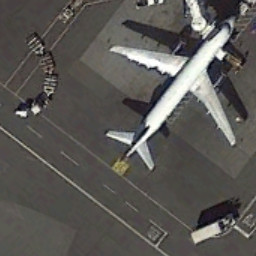Airplane: (99, 9, 244, 182)
